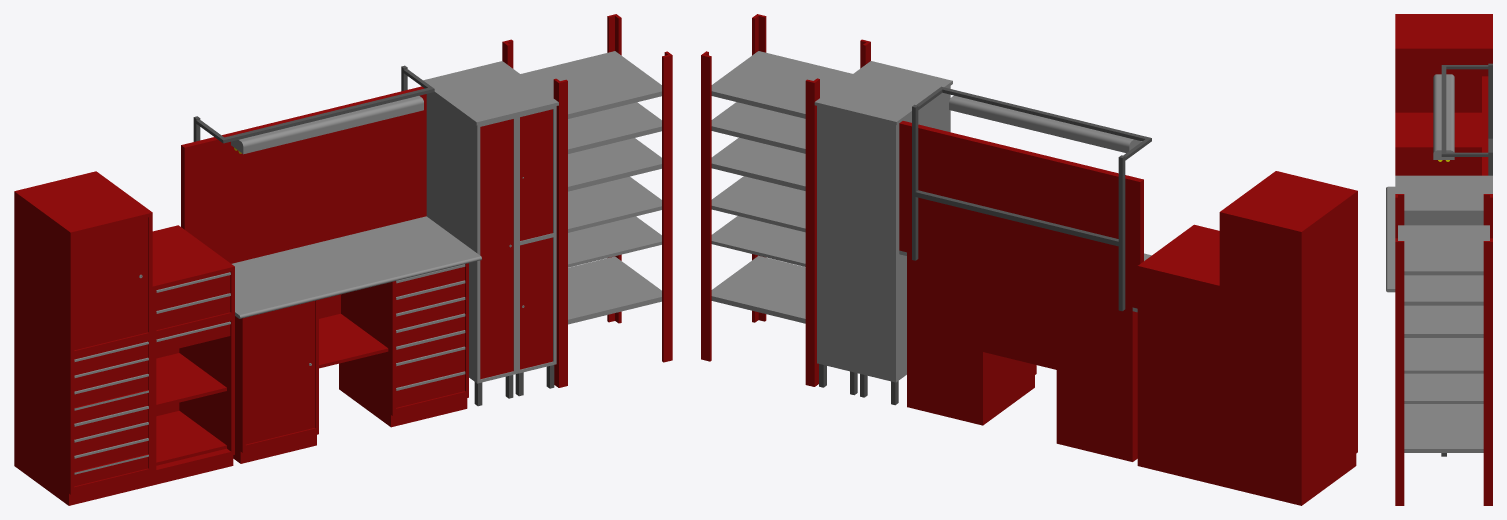
The model's file is Workbench.fbx.
3 views of the same model, side by side, from view 1: azimuth 30°, elevation 25°; view 2: azimuth 150°, elevation 25°; view 3: azimuth 270°, elevation 25° (orthographic). The views are drawn at different scales.
Visible parts, largest first — view 1: Model; view 2: Model; view 3: Model.
Boxes of the visible parts, x1,y1,x2,y2 form: Model: [14, 14, 672, 505]; Model: [701, 14, 1357, 505]; Model: [1386, 14, 1492, 505].
Bounding box in the file's own units: 3.95 × 1.91 × 0.7009.
